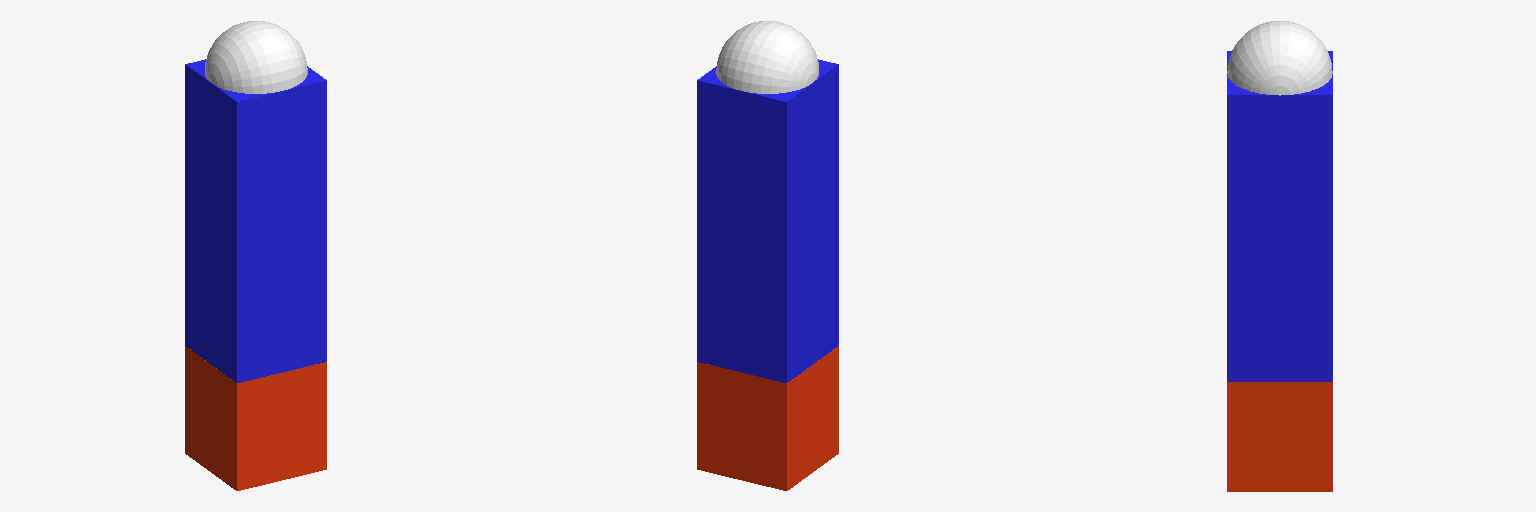
The robot description file, URDF, robot "articulated_fork":
<?xml version="1.0" ?>
<robot name="articulated_fork">

    <material name="white">
        <color rgba="1 1 1 1"/>
    </material>

    <material name="orange">
        <color rgba="1 0.3 0.1 1"/>
    </material>

    <material name="blue">
        <color rgba="0.2 0.2 1 1"/>
    </material>

    <link name="world"></link>

    <joint name="pitch_joint" type="revolute">
        <origin xyz="0 0 0" rpy="0 -1.57 0"/>
        <parent link="world"/>
        <child link="pitch_link"/>
        <axis xyz="0 1 0"/>
        <limit lower="-1.57" upper="1.57" velocity="100" effort="100"/> 
    </joint>

    <link name="pitch_link">
        <visual>
            <origin xyz="0.0115 0 0" rpy="0 0 0"/>
            <geometry>                
                <box size="0.023 0.020 0.020"/>
            </geometry>
            <material name="orange"/>
        </visual>
    </link>

    <joint name="roll_joint" type="continuous">
        <origin xyz="0.023 0 0" rpy="0 0 0"/>
        <parent link="pitch_link"/>
        <child link="roll_link"/>
        <axis xyz="1 0 0"/>
        <limit velocity="100" effort="100"/>
    </joint>

    <link name="roll_link">
        <visual>
            <origin xyz="0.03 0 0" rpy="0 1.57 0"/>
            <geometry>
                <box size="0.020 0.020 0.06"/>
            </geometry>
            <material name="blue"/>
        </visual>
    </link>

    <joint name="end_effector_joint" type="fixed">
        <parent link="roll_link"/>
        <child link="end_effector"/>
        <axis xyz="0 0 0"/>
        <origin xyz="0.06 0 0" rpy="0 0 0"/>
    </joint>

    <link name="end_effector">
        <visual>
            <origin xyz="0 0 0" rpy="0 0 0"/>
            <geometry>
                <sphere radius="0.01"/>
            </geometry>
            <material name="white"/>
        </visual>
    </link>
    
</robot>

--- Facts derived from the render (not from the file) ---
Views: 3 orthographic renders of the robot side by side, from view 1: azimuth 30°, elevation 25°; view 2: azimuth 150°, elevation 25°; view 3: azimuth 270°, elevation 25°.
Robot: articulated_fork — 4 links, 3 joints (1 revolute, 1 continuous, 1 fixed); root link world; default pose: every joint at zero.
Visible links, largest first — view 1: roll_link, pitch_link, end_effector; view 2: roll_link, pitch_link, end_effector; view 3: roll_link, pitch_link, end_effector.
Boxes of the visible links, x1,y1,x2,y2 form: roll_link: [185, 59, 326, 382]; pitch_link: [185, 346, 326, 490]; end_effector: [205, 21, 307, 93]; roll_link: [697, 59, 838, 382]; pitch_link: [697, 346, 838, 490]; end_effector: [716, 21, 818, 93]; roll_link: [1227, 51, 1332, 381]; pitch_link: [1227, 382, 1332, 491]; end_effector: [1227, 21, 1332, 95].
Bounding box of the posed robot: 0.0201 × 0.02 × 0.093 m (x, y, z).
Geometry: primitives only (box / cylinder / sphere), no mesh files.